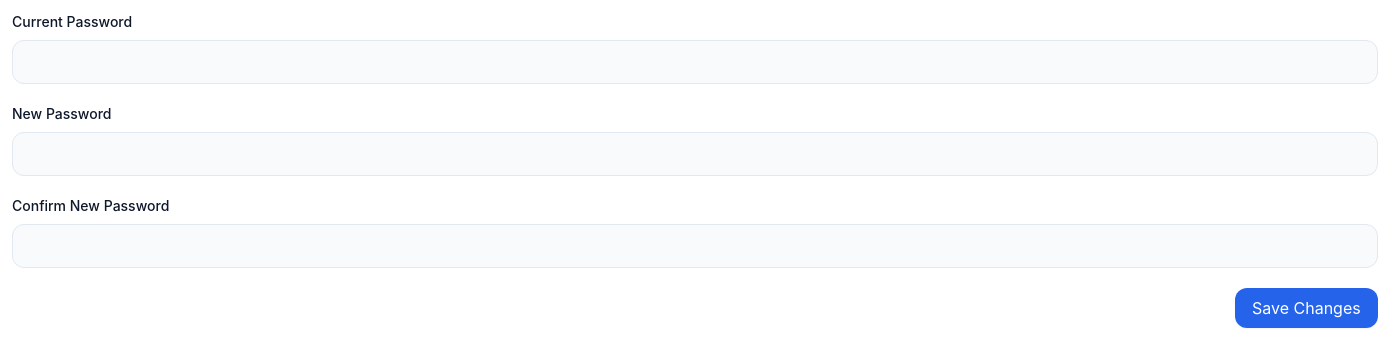
Test: ChangePasswordForm › resets the form after successful submission
Type "current-password" into the password field labelled "Current Password" at (695, 62), box [12,40,1378,84]
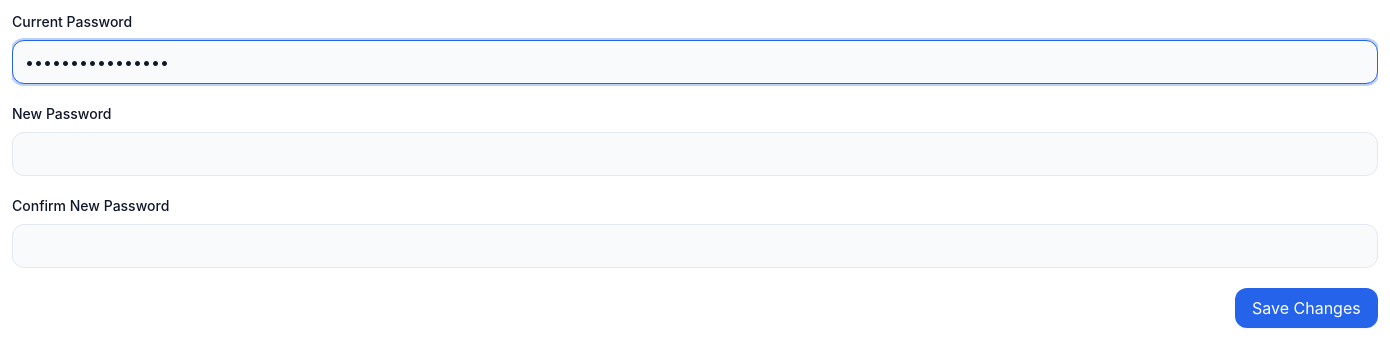
Type "new-password" into the password field labelled "New Password" at (695, 154), box [12,132,1378,176]
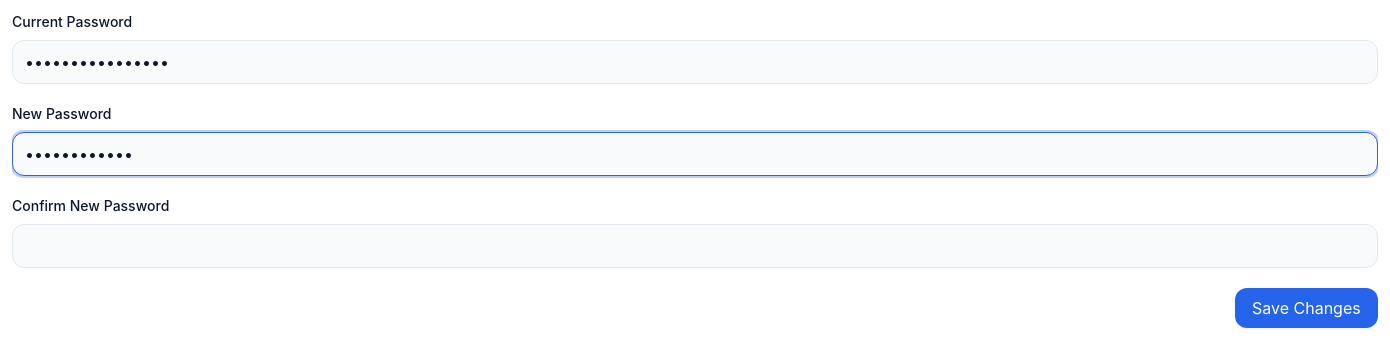
Type "new-password" into the password field labelled "Confirm New Password" at (695, 246), box [12,224,1378,268]
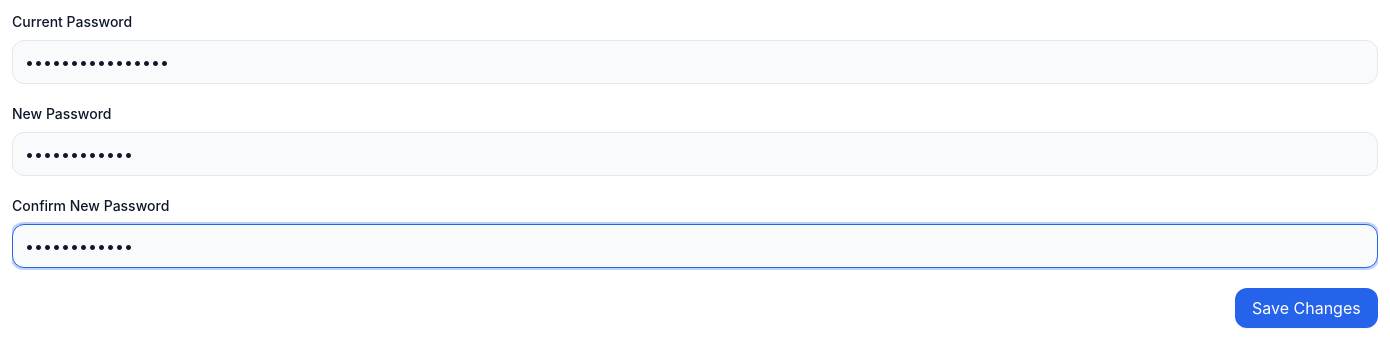
Click the button "Save Changes" at (1307, 308), box [1235,288,1378,328]
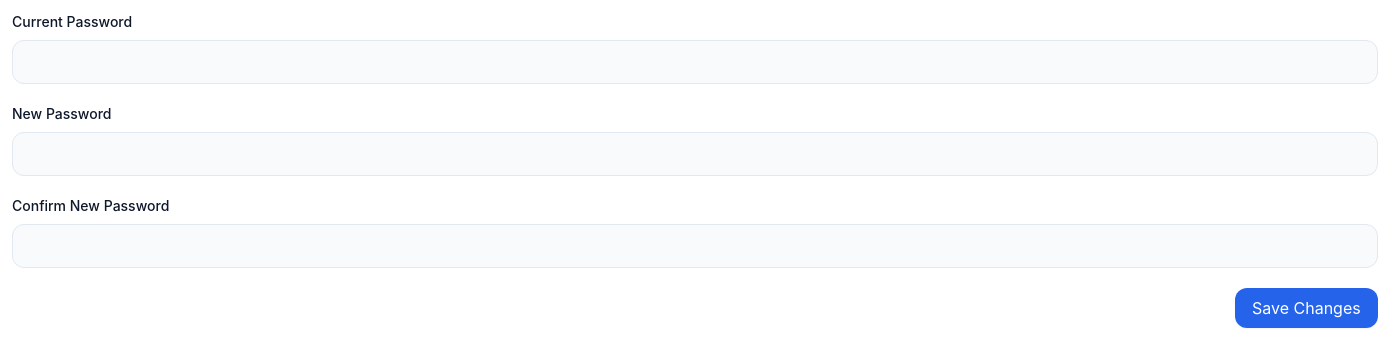
Check: the password field labelled "Current Password" is empty, box [12,40,1378,84]
Check: the password field labelled "New Password" is empty, box [12,132,1378,176]
Check: the password field labelled "Confirm New Password" is empty, box [12,224,1378,268]
